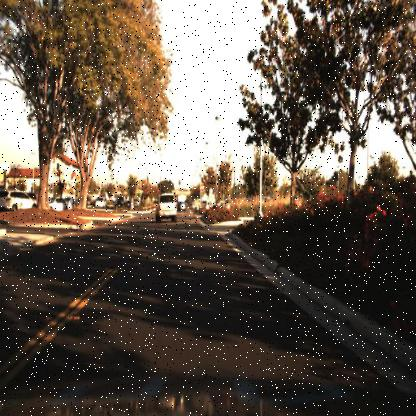car: (0, 188, 34, 214), (45, 191, 70, 218), (93, 194, 109, 212), (114, 193, 128, 213), (130, 194, 141, 212), (123, 195, 134, 211), (176, 198, 188, 212)
